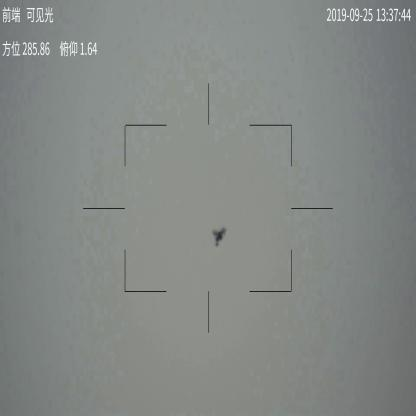uav: (209, 225, 230, 248)
